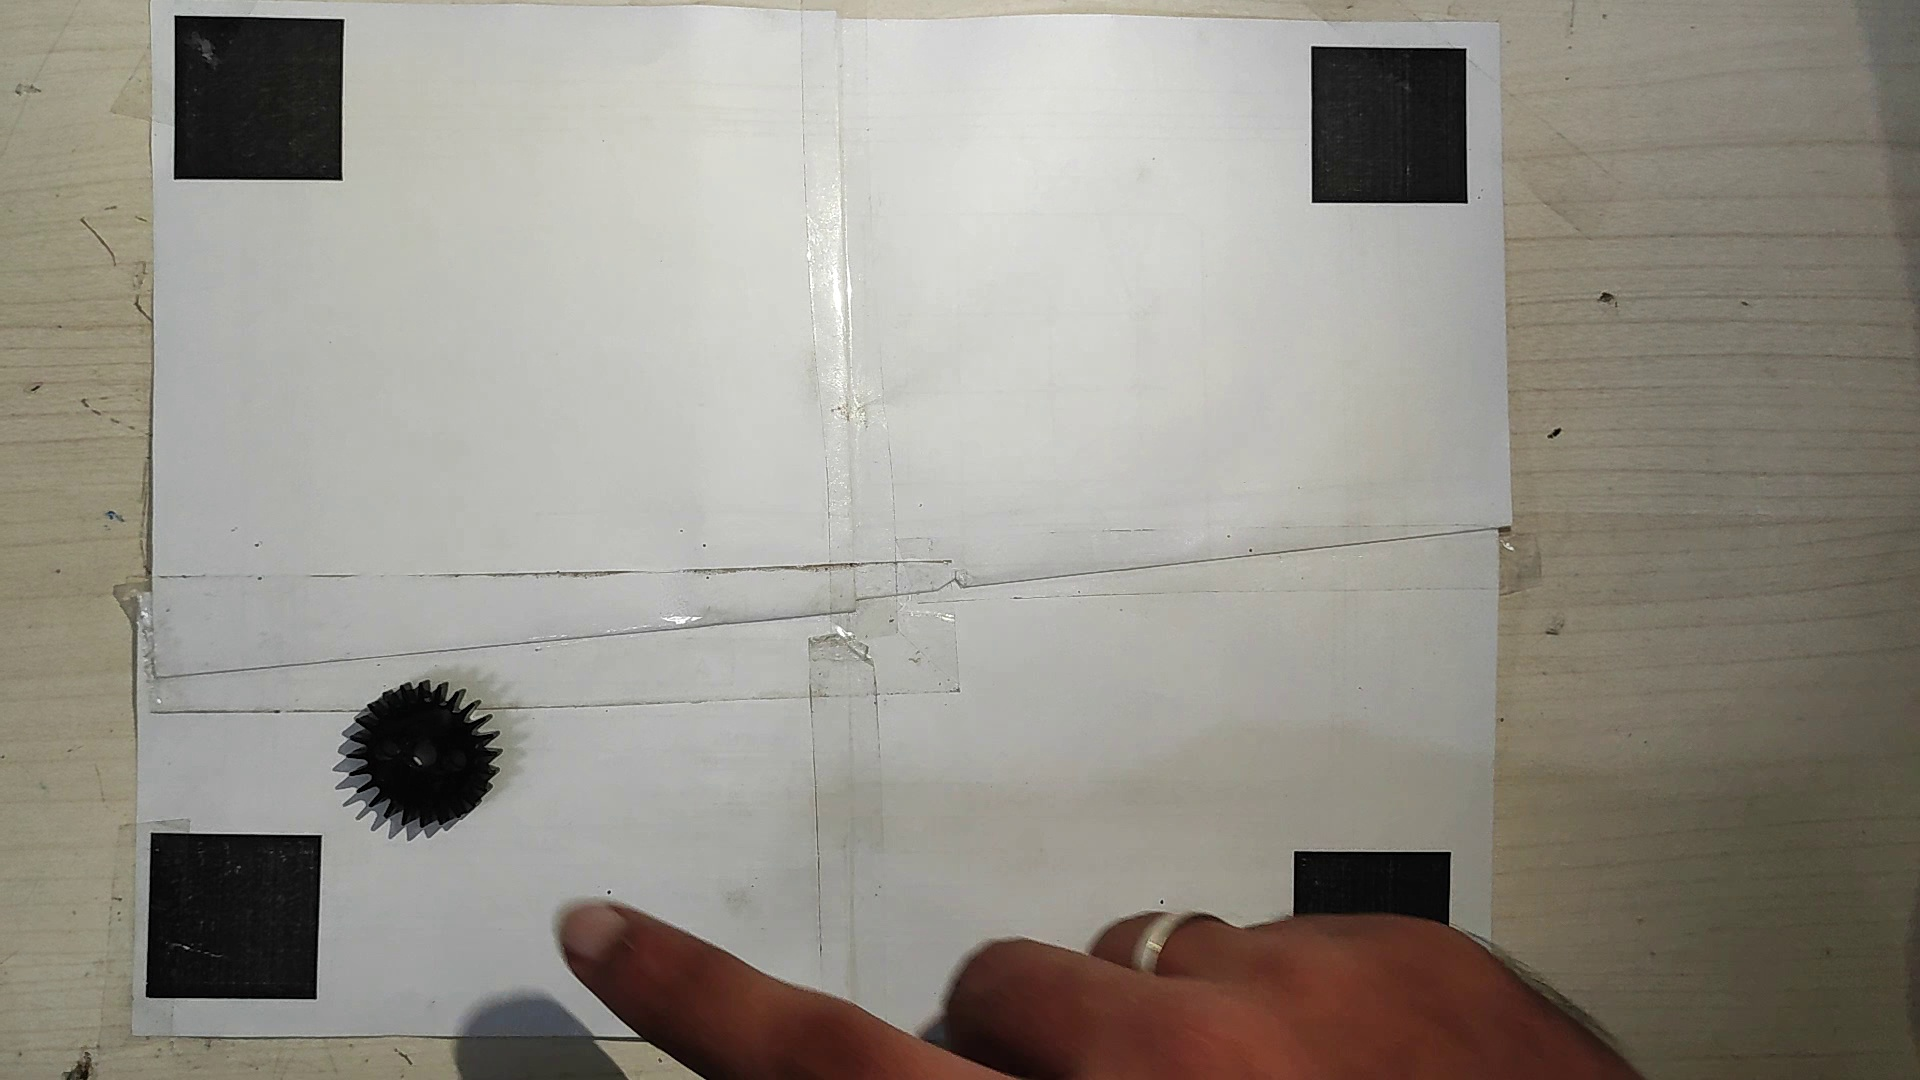Gear: (343, 676, 508, 832)
